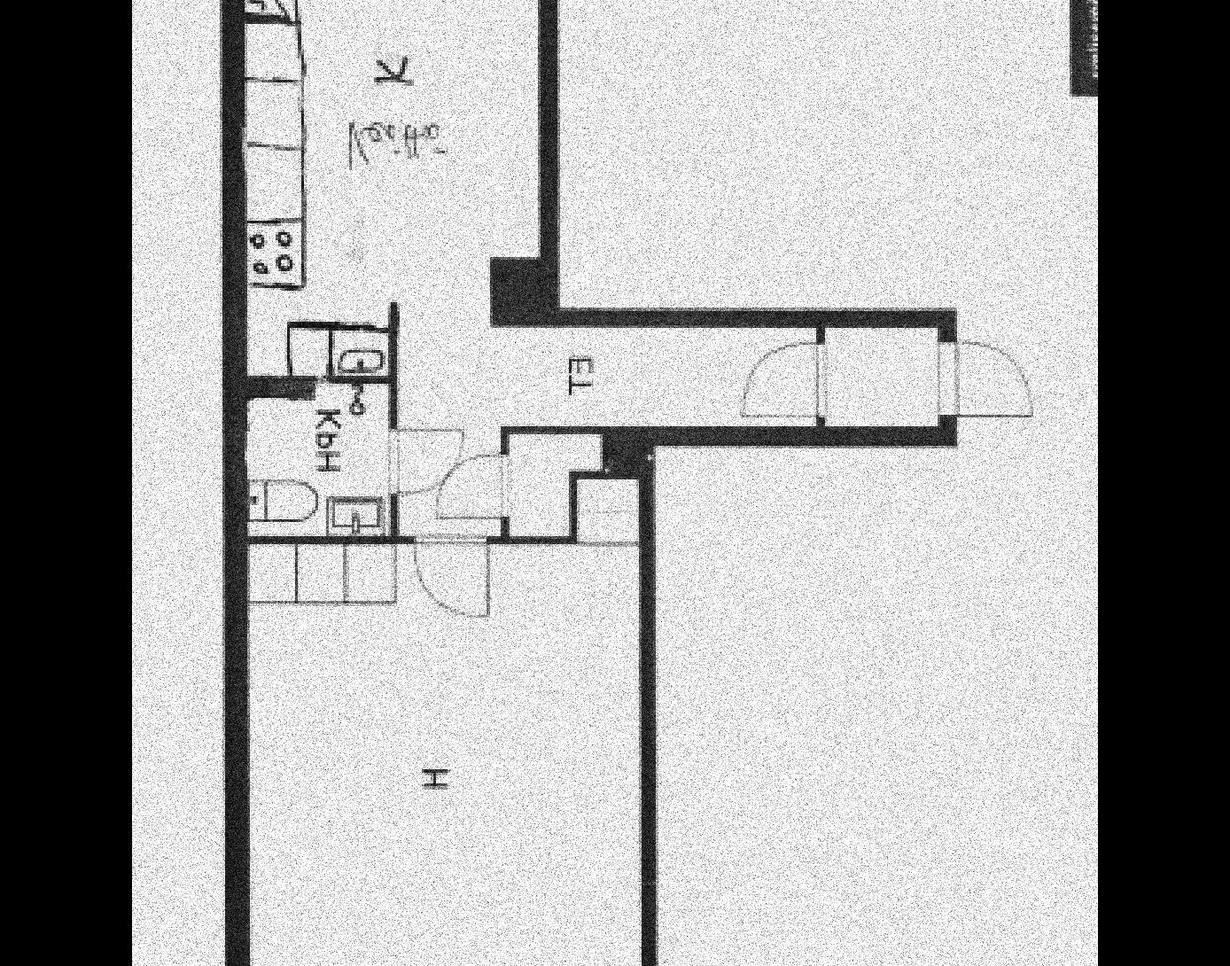door: (930, 337, 1049, 422), (728, 337, 839, 425), (406, 534, 499, 627), (384, 421, 473, 495), (438, 455, 516, 521)
zone: (246, 0, 818, 541), (245, 541, 645, 966), (240, 378, 393, 536), (499, 428, 603, 542), (828, 323, 938, 429), (578, 474, 649, 543)
